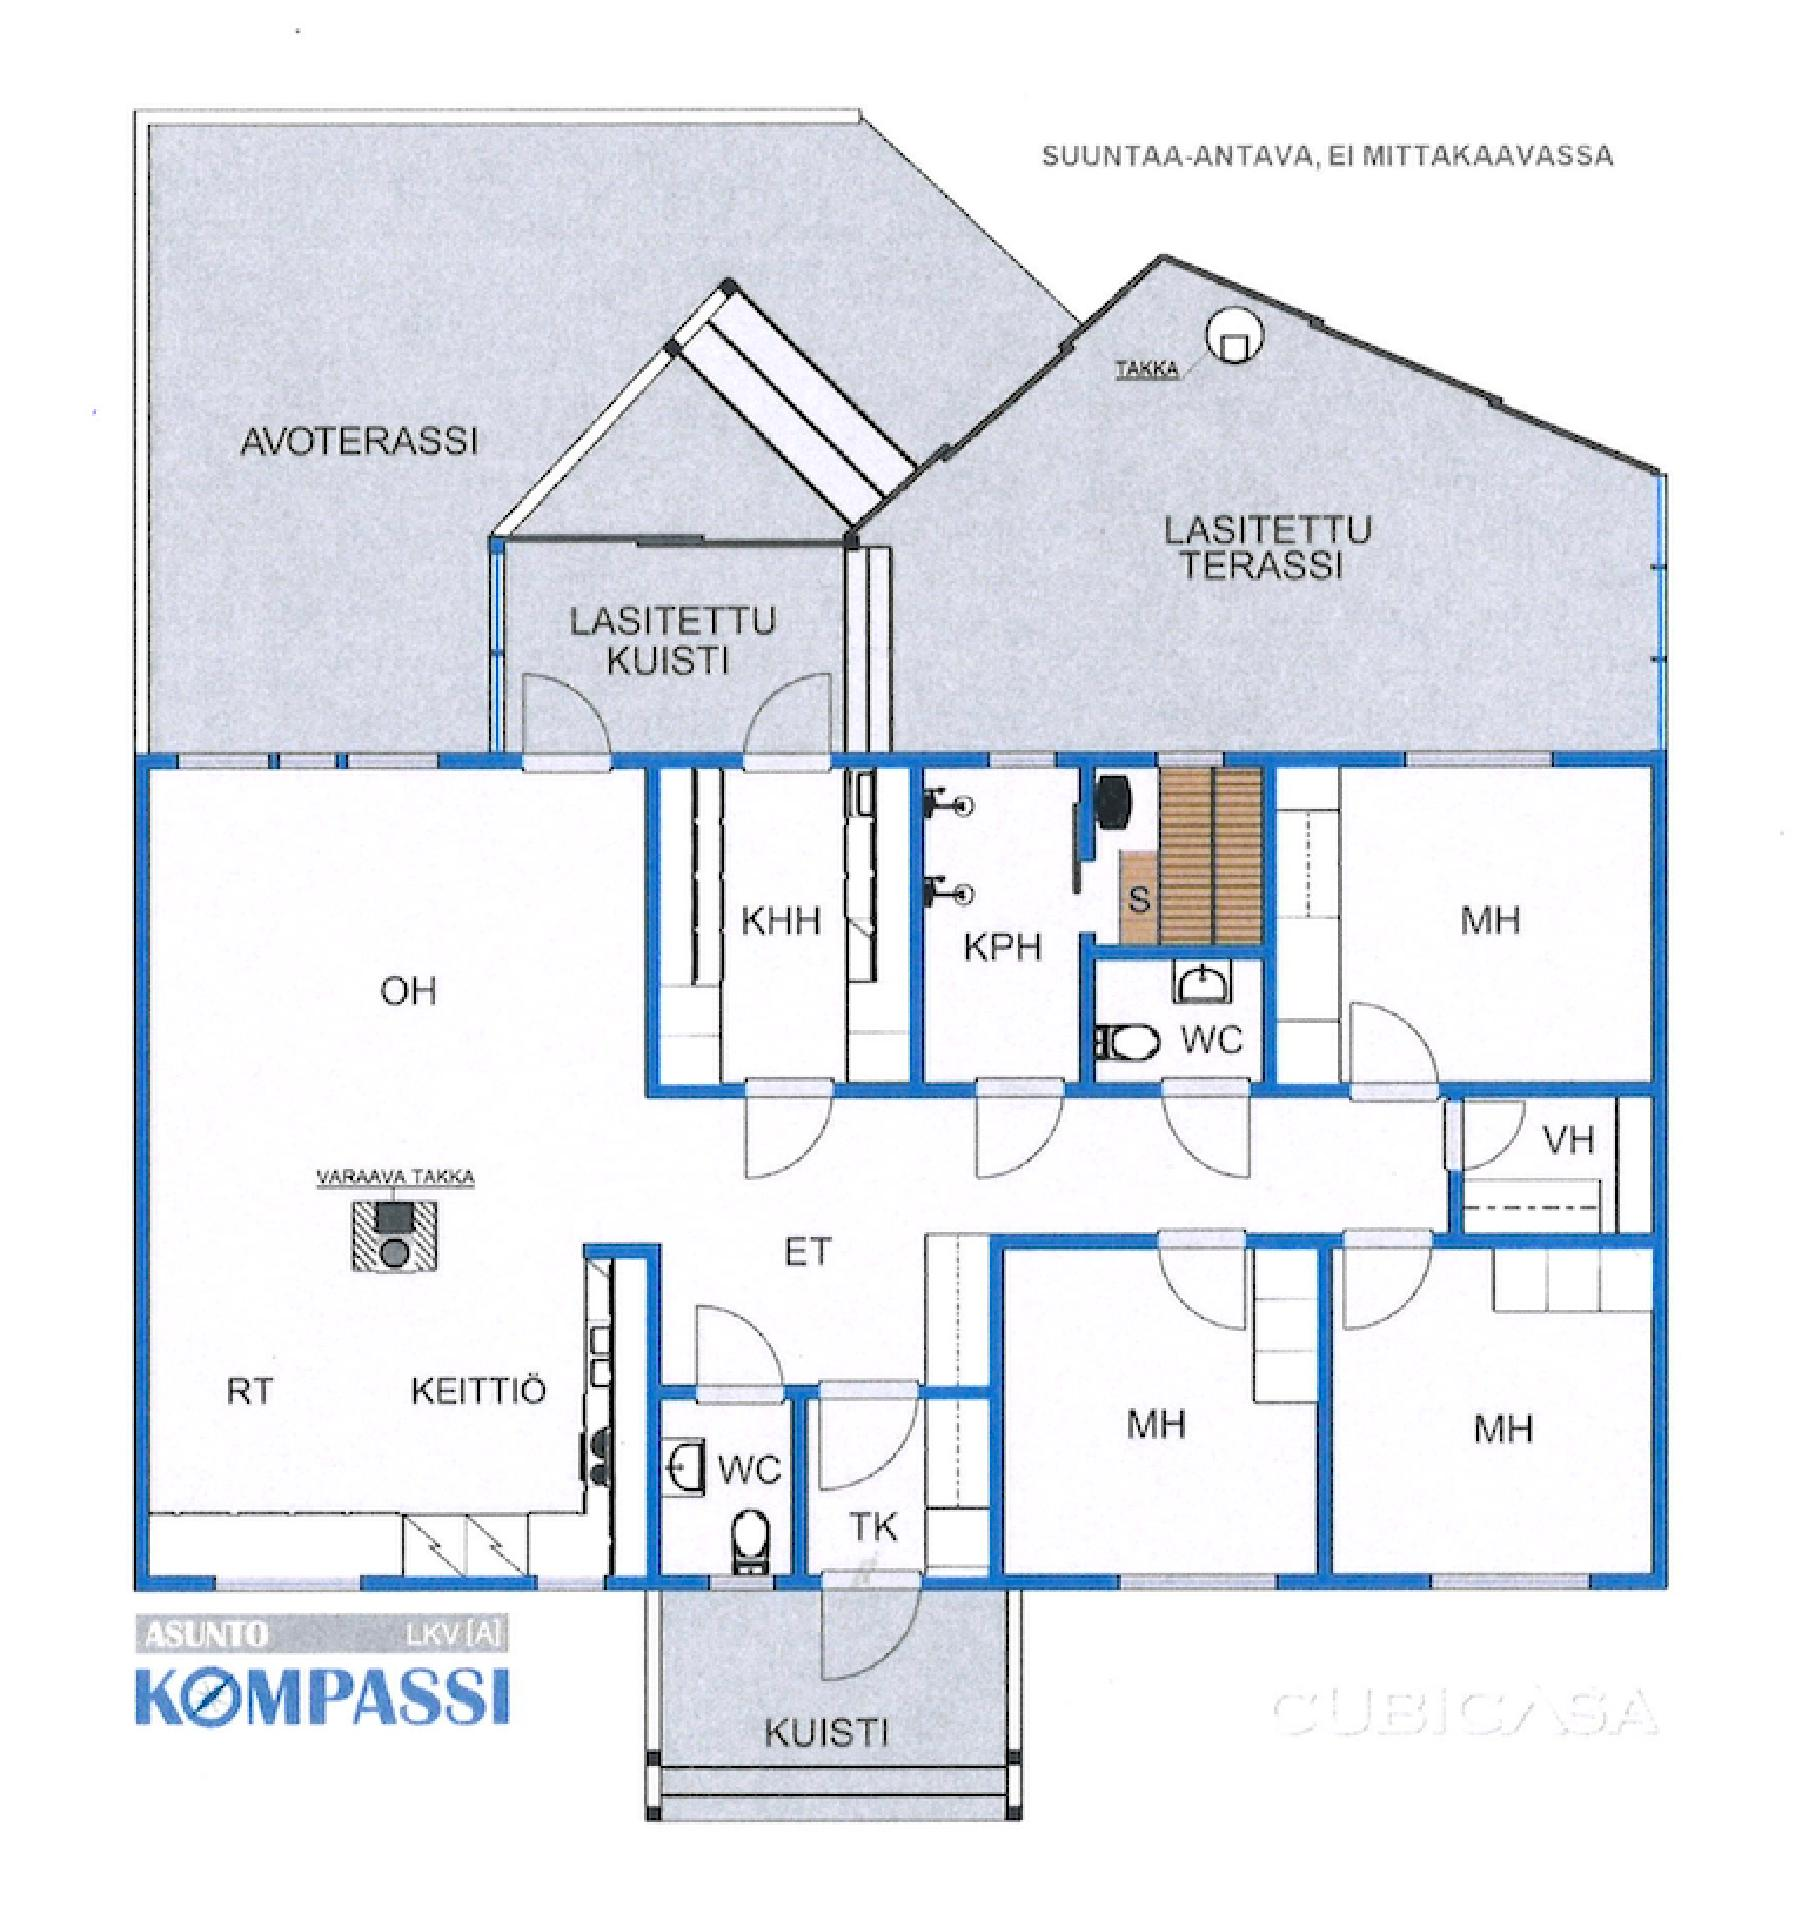door: (1142, 1229, 1260, 1343), (736, 1071, 838, 1187), (1144, 1079, 1268, 1170), (821, 1374, 914, 1493), (690, 1297, 787, 1406), (518, 667, 613, 778), (819, 1578, 919, 1682), (969, 1073, 1062, 1182), (736, 678, 834, 776), (1343, 1001, 1439, 1100), (1347, 1223, 1430, 1326), (1430, 1097, 1532, 1175)
window: (1114, 1573, 1275, 1595), (1410, 747, 1554, 771), (1429, 1572, 1587, 1592), (184, 749, 271, 776), (213, 1573, 359, 1589), (278, 749, 337, 776), (354, 754, 427, 776), (1156, 749, 1222, 771), (538, 1573, 603, 1590), (988, 749, 1051, 765)
zone: (148, 123, 1653, 758), (153, 773, 654, 1573), (1274, 765, 1652, 1079), (1338, 1245, 1648, 1572), (1006, 1246, 1314, 1568), (654, 1098, 982, 1386), (652, 1585, 1011, 1822), (661, 776, 907, 1073), (986, 1095, 1439, 1231), (925, 761, 1078, 1079), (805, 1398, 982, 1573), (1093, 765, 1250, 943), (664, 1398, 787, 1568), (1093, 965, 1251, 1085)
